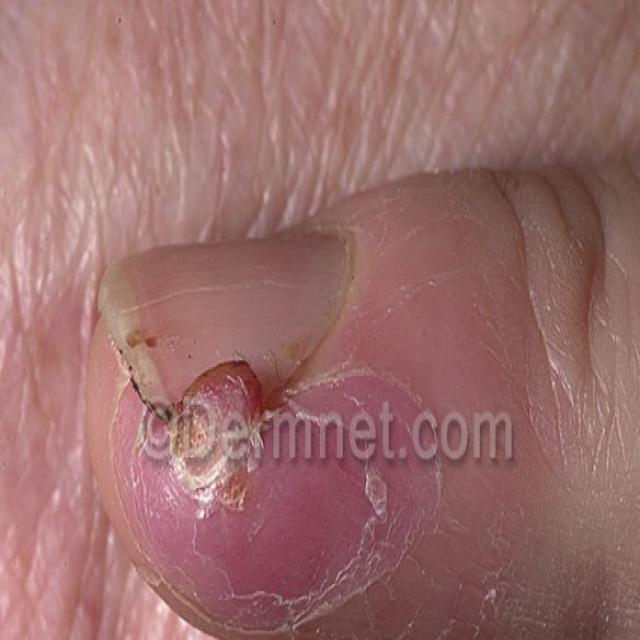Vascular Tumors: (124, 327, 311, 564)
